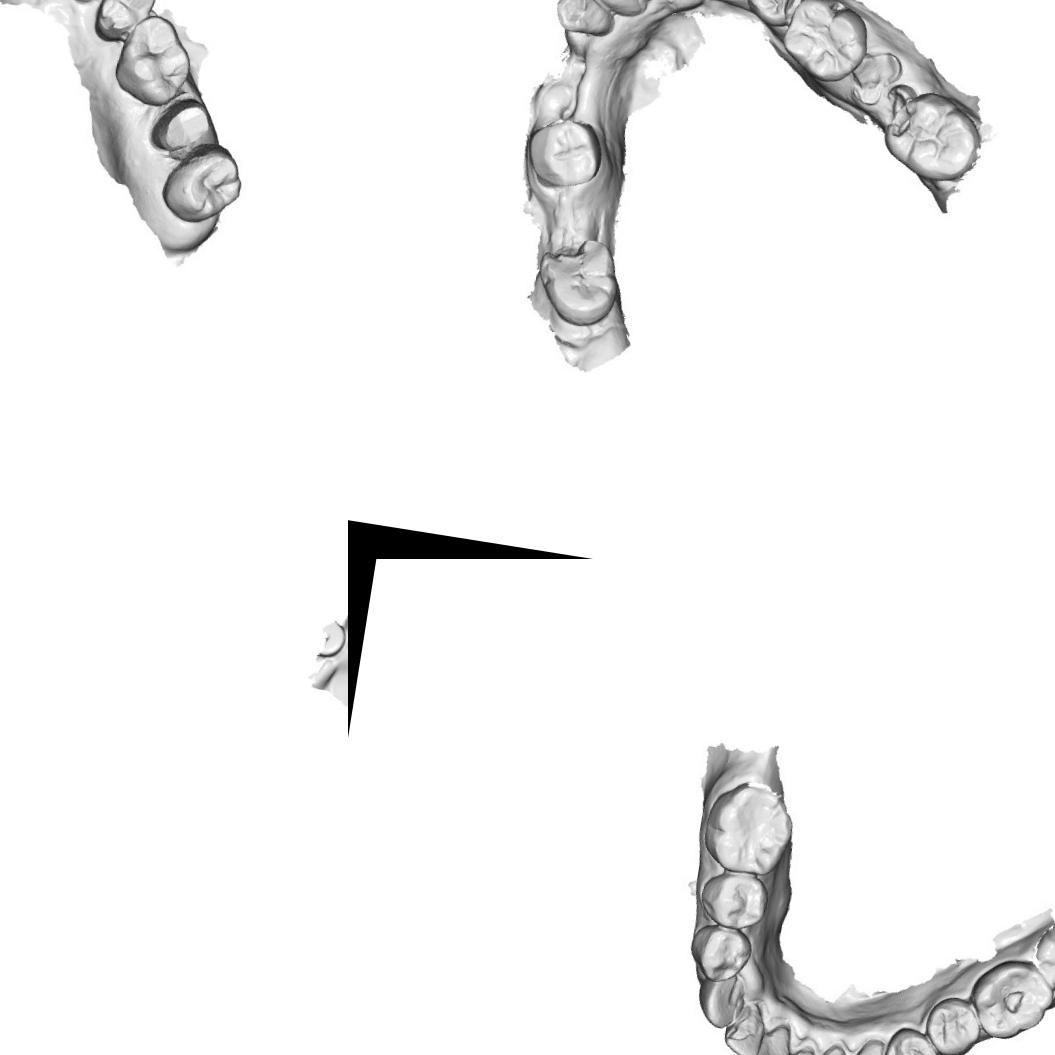canine: (690, 965, 750, 1036), (842, 1034, 898, 1055)
crown: (145, 92, 218, 162)
implant: (60, 0, 107, 10)
incisor: (550, 0, 621, 40), (721, 1004, 769, 1055), (569, 0, 651, 20), (749, 1028, 792, 1055), (771, 1043, 818, 1055)
molar: (876, 83, 986, 183), (527, 228, 627, 333), (700, 776, 798, 881), (108, 7, 202, 113), (774, 0, 877, 89), (157, 135, 248, 230), (964, 952, 1054, 1048), (525, 111, 609, 195), (1026, 907, 1055, 999)
premolar: (694, 866, 768, 935), (687, 916, 753, 987), (919, 991, 983, 1055), (90, 0, 160, 50), (741, 0, 812, 31), (880, 1024, 942, 1055)
